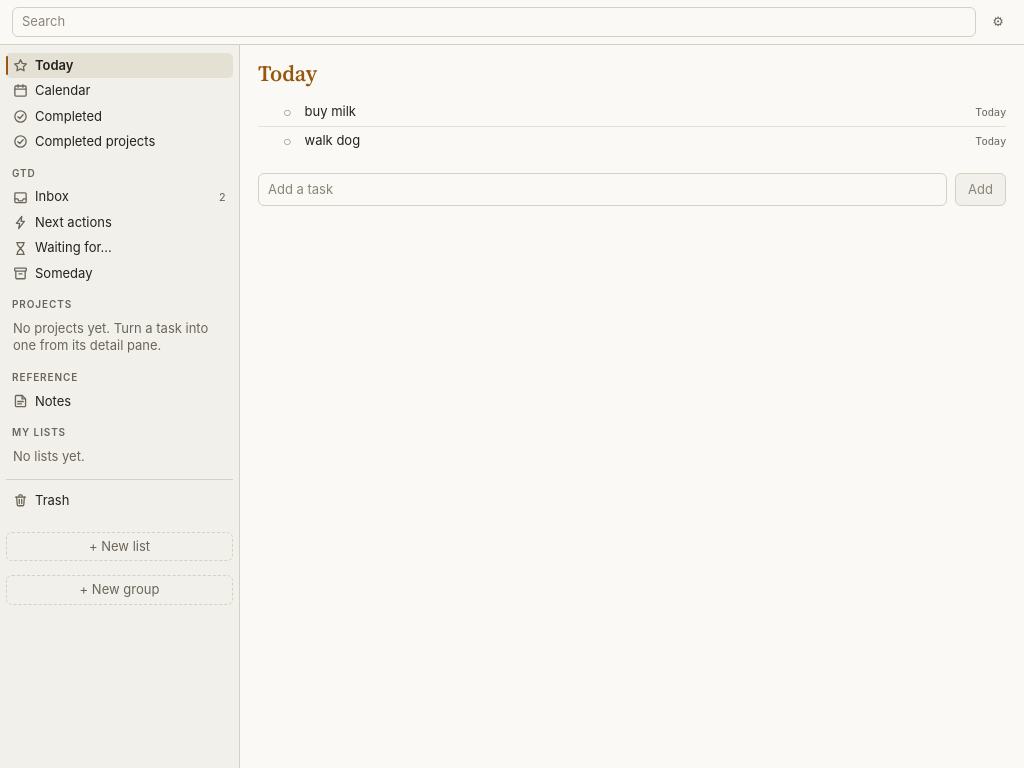
Scenario: Shell › searchReplacesTheListWithResults
Type "milk" into the search field labelled "Search". click: (494, 22)
box: x1=12 y1=7 x2=976 y2=36
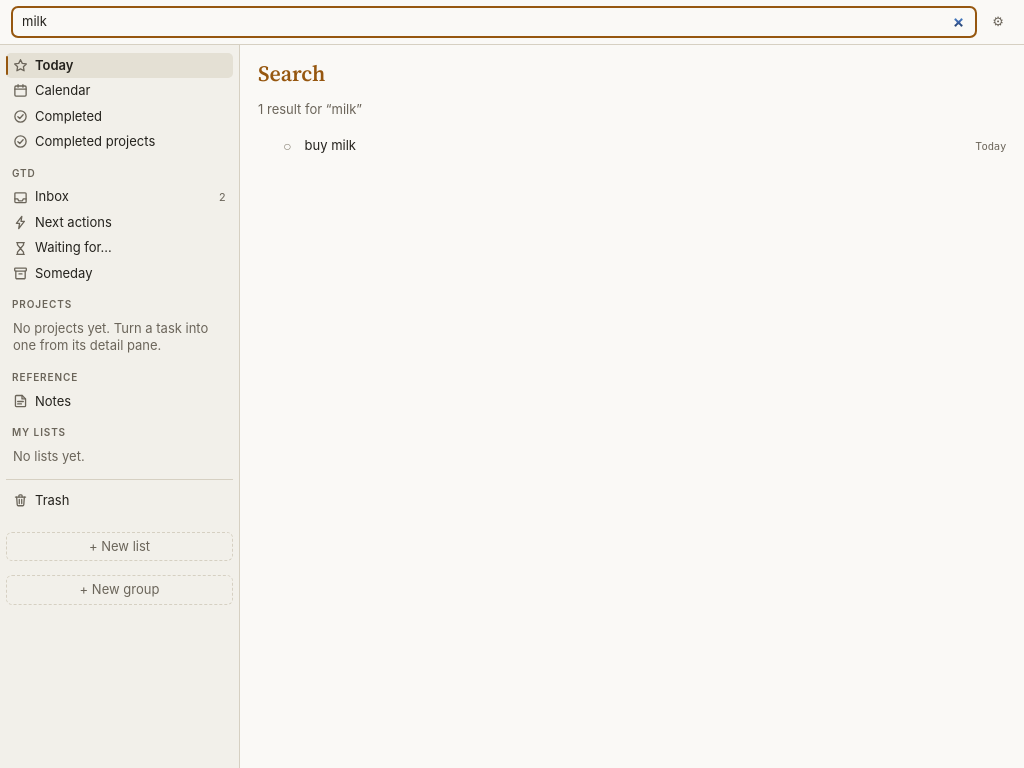
Now the heading "Search" is shown, box x1=258 y1=58 x2=325 y2=88
Now the text "1 result for “milk”" is shown, box x1=258 y1=101 x2=362 y2=117
